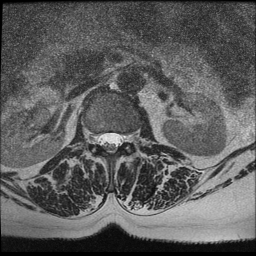CCS_normal: (106, 122, 114, 160)
LFS_normal: (124, 125, 132, 149)
LLS_normal: (115, 125, 123, 152)
RFS_normal: (90, 124, 98, 151)
RLS_normal: (98, 124, 107, 155)
